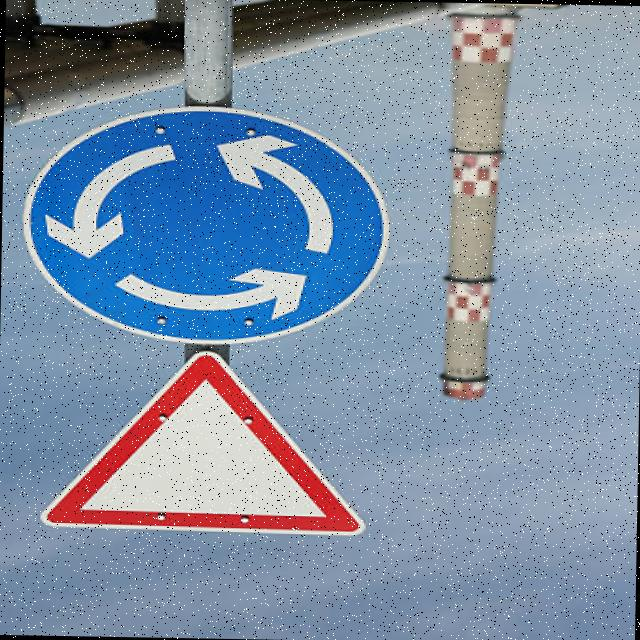round_about: (20, 100, 391, 346)
